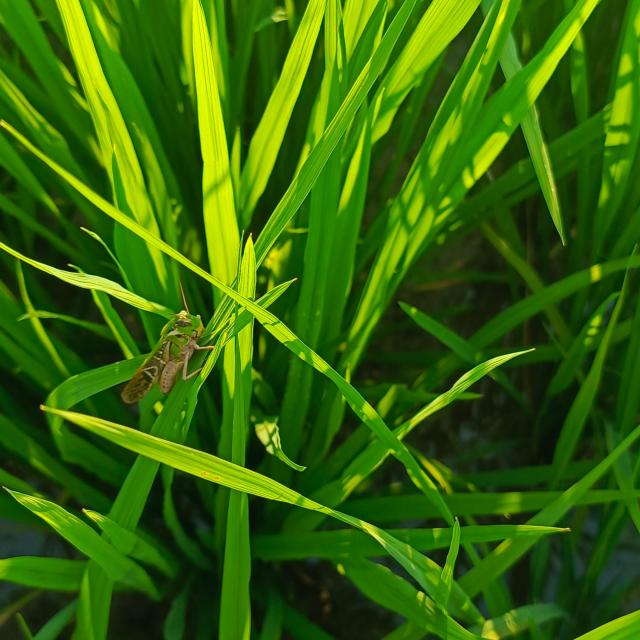belalang pada tanaman padi: (118, 280, 216, 406)
